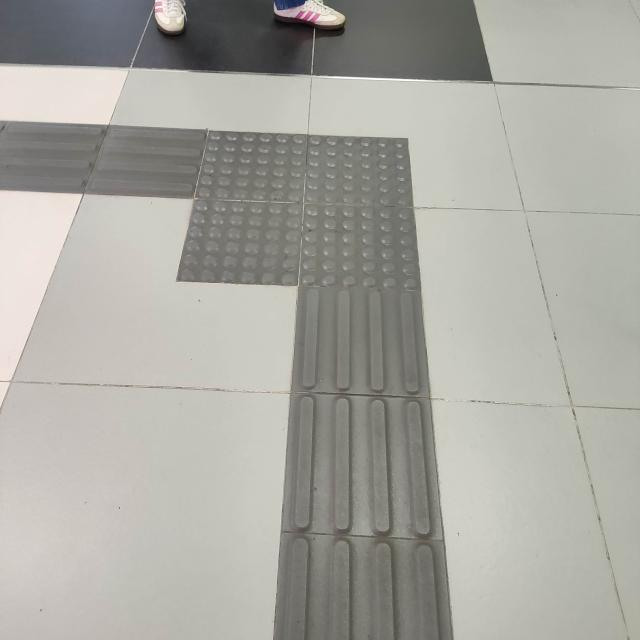kiri: (75, 89, 458, 357)
